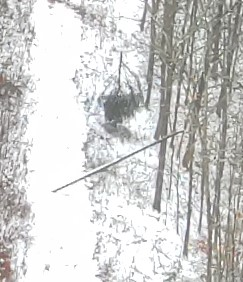pole: (42, 118, 190, 202)
